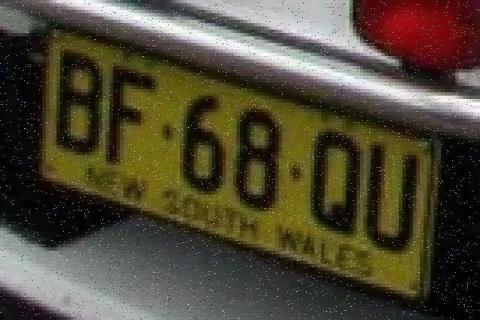LicensePlate: (34, 19, 452, 306)
